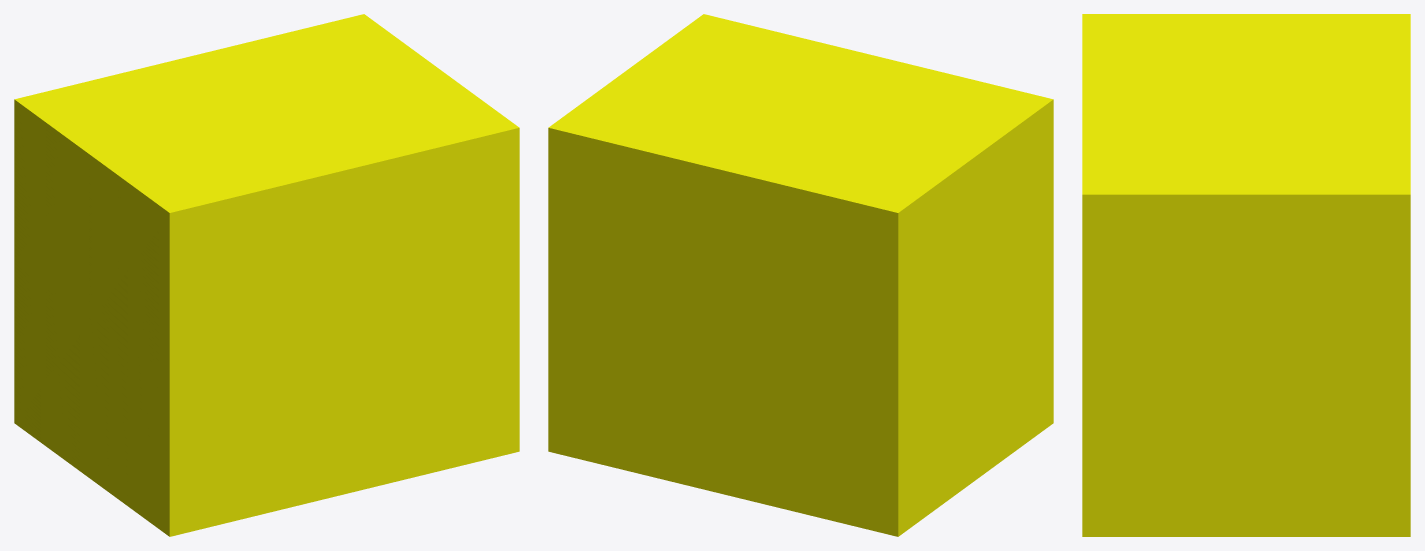
Rendered from sm_hana_swgr_e_2600x2000x2300_2d.glb.
The picture shows the model from 3 angles, left to right: view 1: azimuth 30°, elevation 25°; view 2: azimuth 150°, elevation 25°; view 3: azimuth 270°, elevation 25°; orthographic projection. The views are drawn at different scales.
Visible parts, largest first — view 1: sm_hana_swgr_e_2600x2000x2300_2d; view 2: sm_hana_swgr_e_2600x2000x2300_2d; view 3: sm_hana_swgr_e_2600x2000x2300_2d.
Boxes of the visible parts, x1,y1,x2,y2 form: sm_hana_swgr_e_2600x2000x2300_2d: (14,14,519,536); sm_hana_swgr_e_2600x2000x2300_2d: (548,14,1053,536); sm_hana_swgr_e_2600x2000x2300_2d: (1082,14,1410,536).
Bounding box in the file's own units: 2.6 × 2.3 × 2.
1 material, 1 textured.
